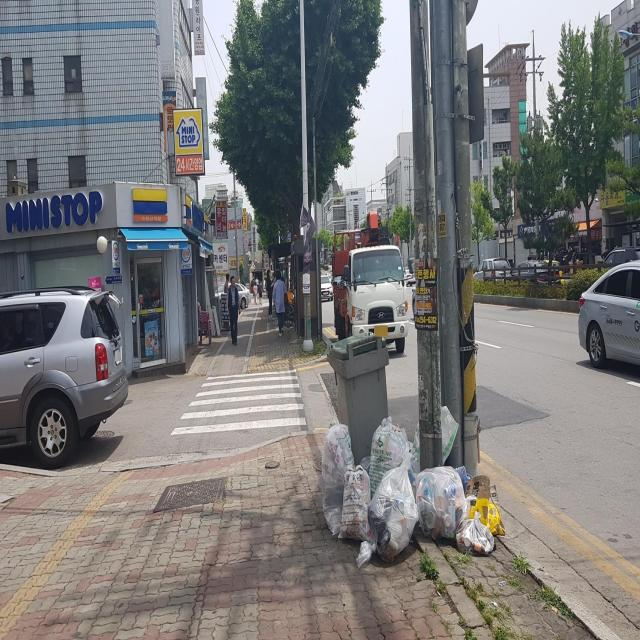횡단보도: (170, 368, 307, 436)
